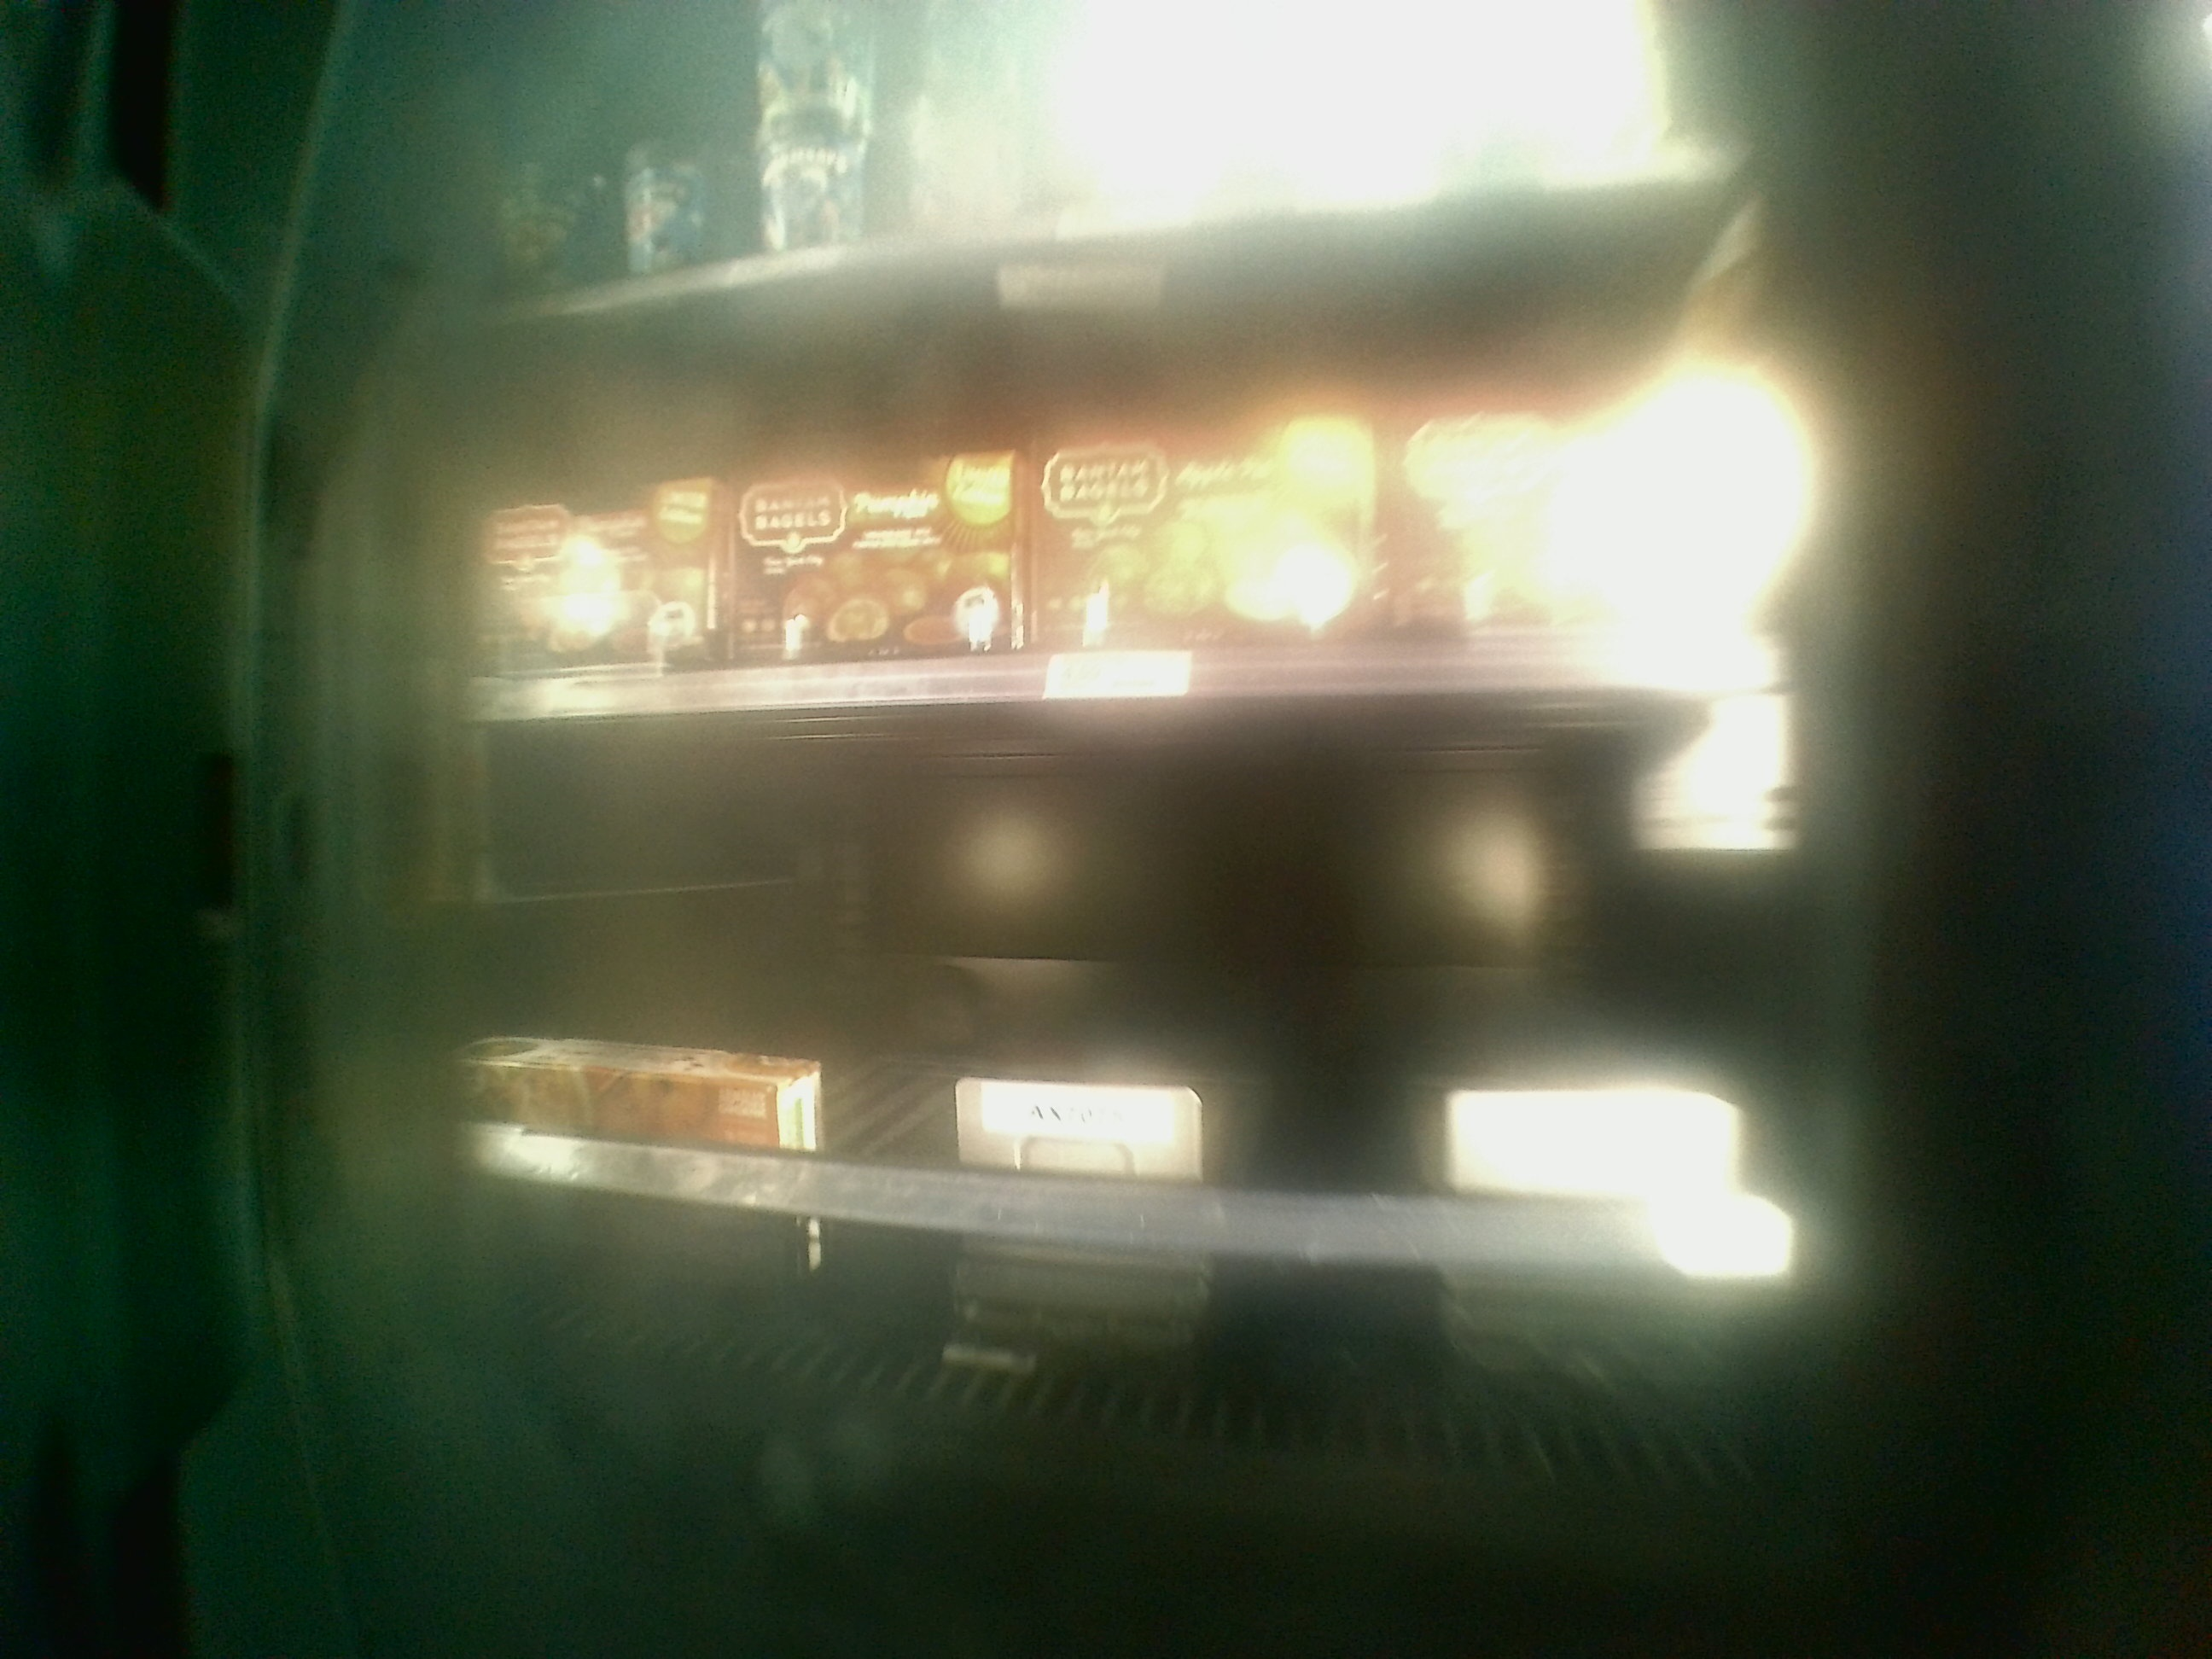shelf: (435, 695, 1775, 1236), (432, 324, 1759, 650)
